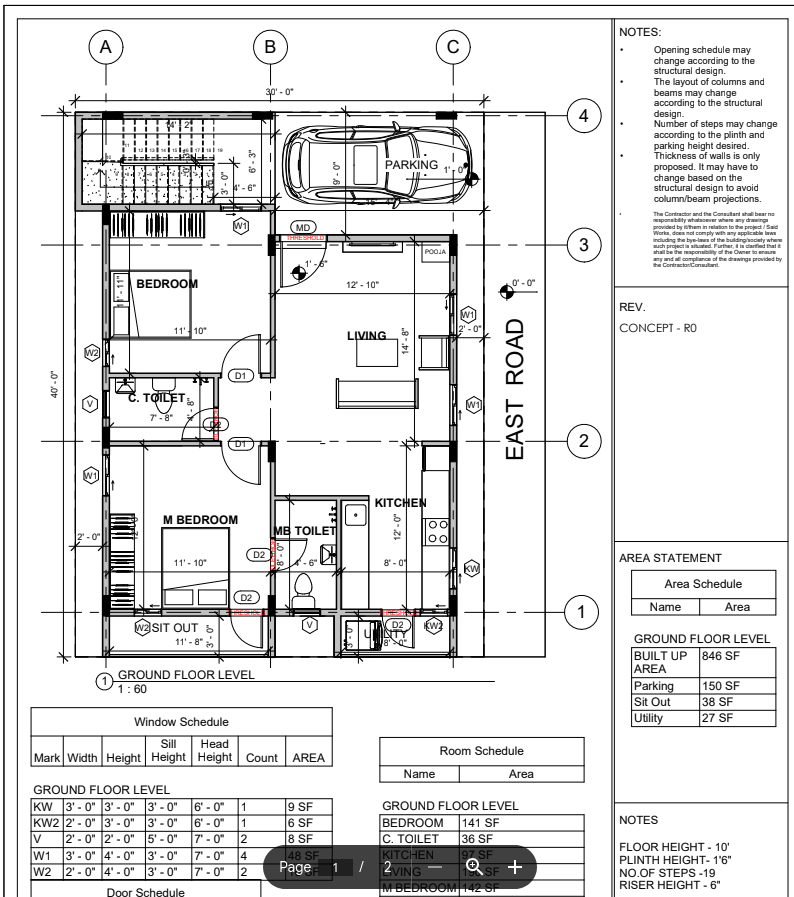door: (278, 237, 331, 287), (220, 441, 264, 488), (218, 335, 264, 376), (225, 611, 267, 652), (376, 611, 418, 650), (273, 534, 309, 577), (180, 407, 217, 440)
